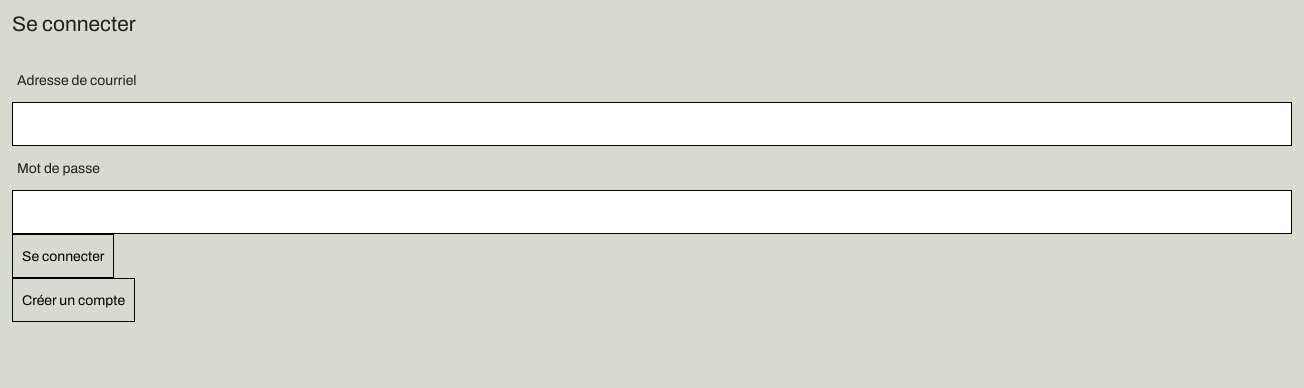
une erreur est annoncée, et jamais par la couleur seule (FR-060) › rend le motif sous forme de texte
In the field labelled "Adresse de courriel": (652, 124) 12,102 -> 1292,146, type "joueuse@exemple.test"
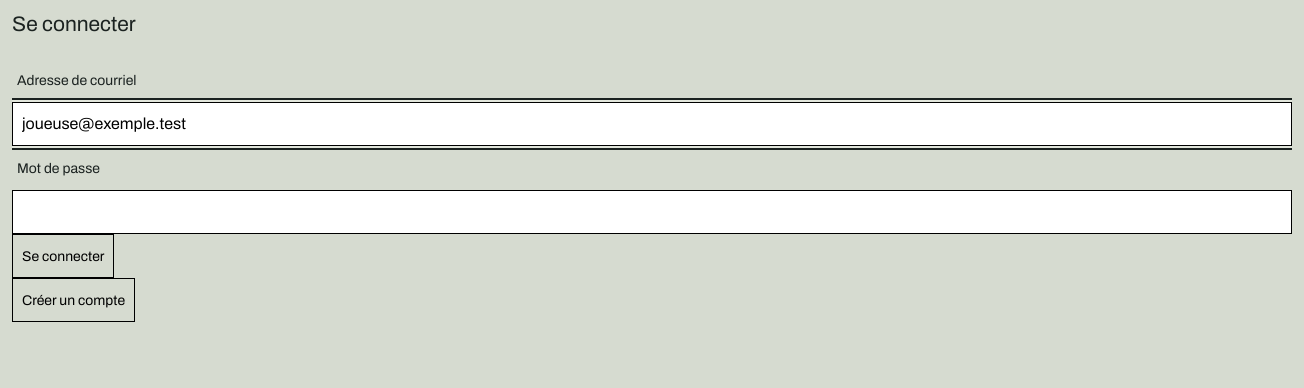
In the password field labelled "Mot de passe": (652, 212) 12,190 -> 1292,234, type "mauvais-mot-de-passe"
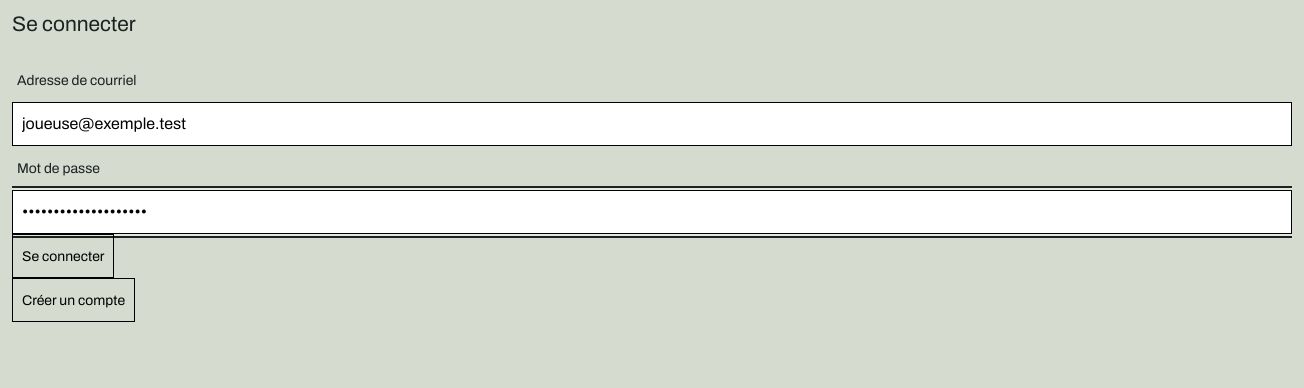
Click the button "Se connecter": (63, 256) 12,234 -> 114,278
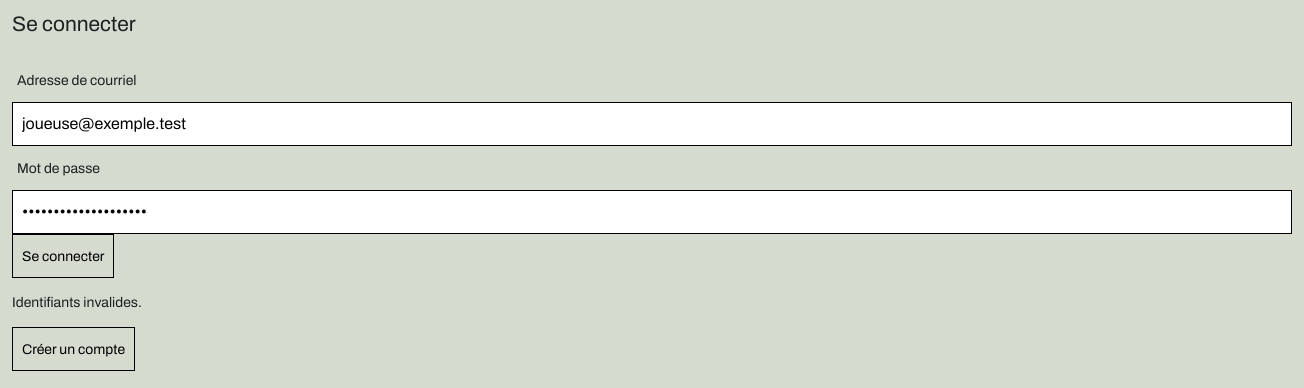
Now the text "Identifiants invalides." is shown, box 12,295 -> 142,310
